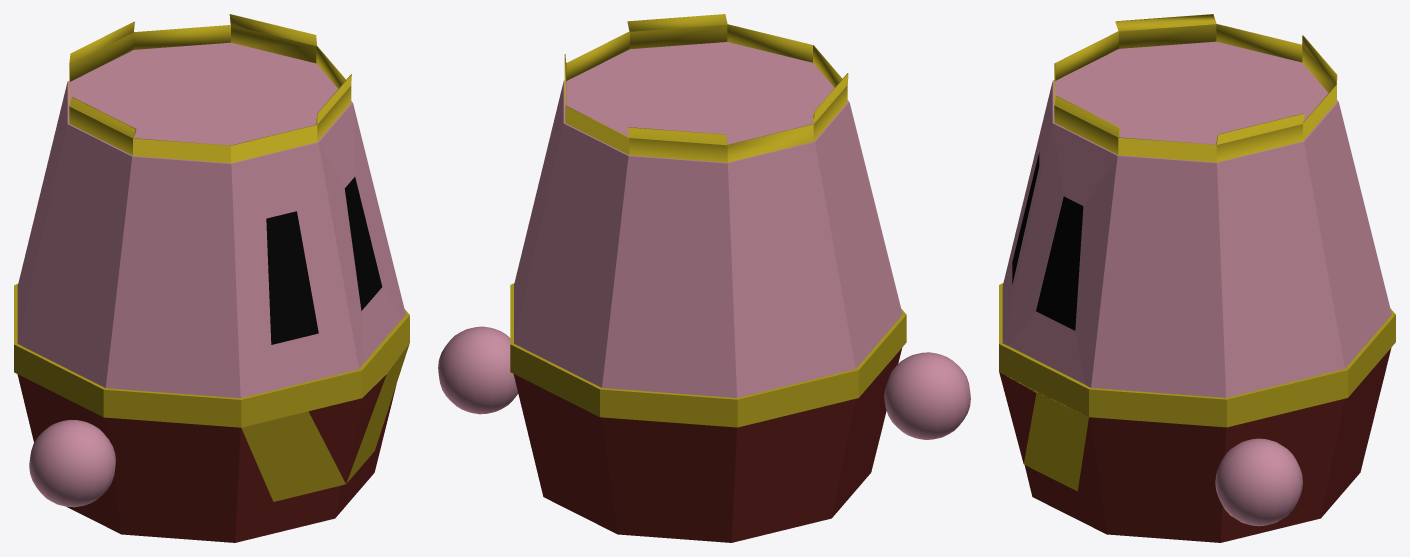
The model's file is Character_Emperor.fbx.
3 views of the same model, side by side, from view 1: azimuth 30°, elevation 25°; view 2: azimuth 150°, elevation 25°; view 3: azimuth 270°, elevation 25° (orthographic).
Visible parts, largest first — view 1: Solider; view 2: Solider; view 3: Solider.
Boxes of the visible parts, <box> form: Solider: <box>14,14,409,542</box>; Solider: <box>438,14,970,542</box>; Solider: <box>999,14,1395,542</box>.
Bounding box in the file's own units: 293 × 252 × 227.
